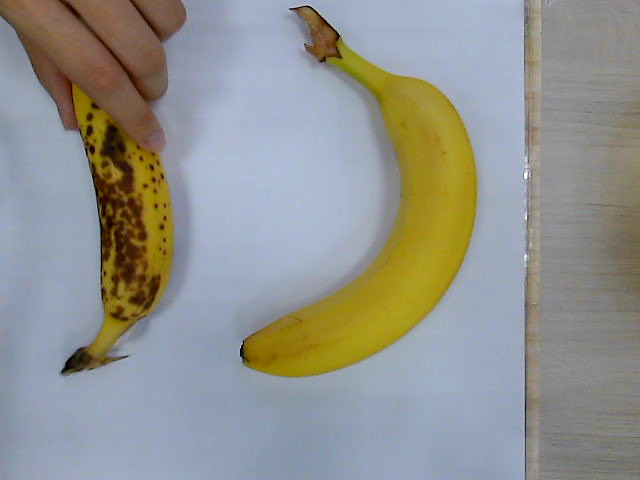fresh_banana: (238, 8, 476, 376)
rotten_banana: (63, 81, 176, 379)
